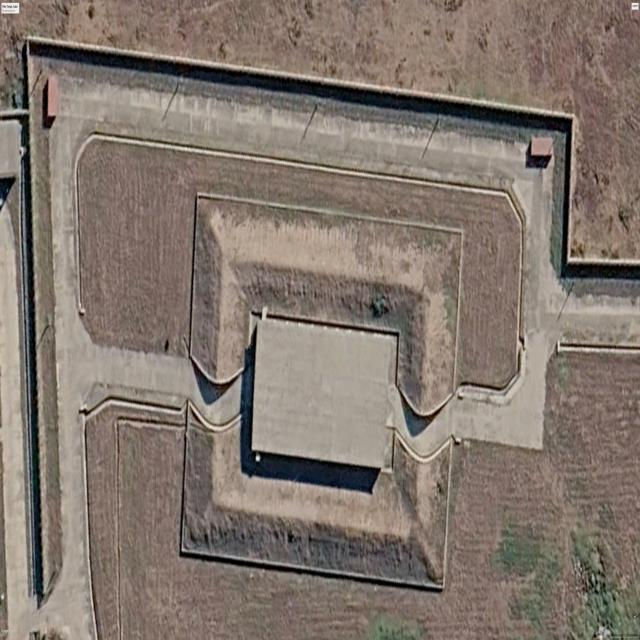Home: (252, 317, 397, 469)
